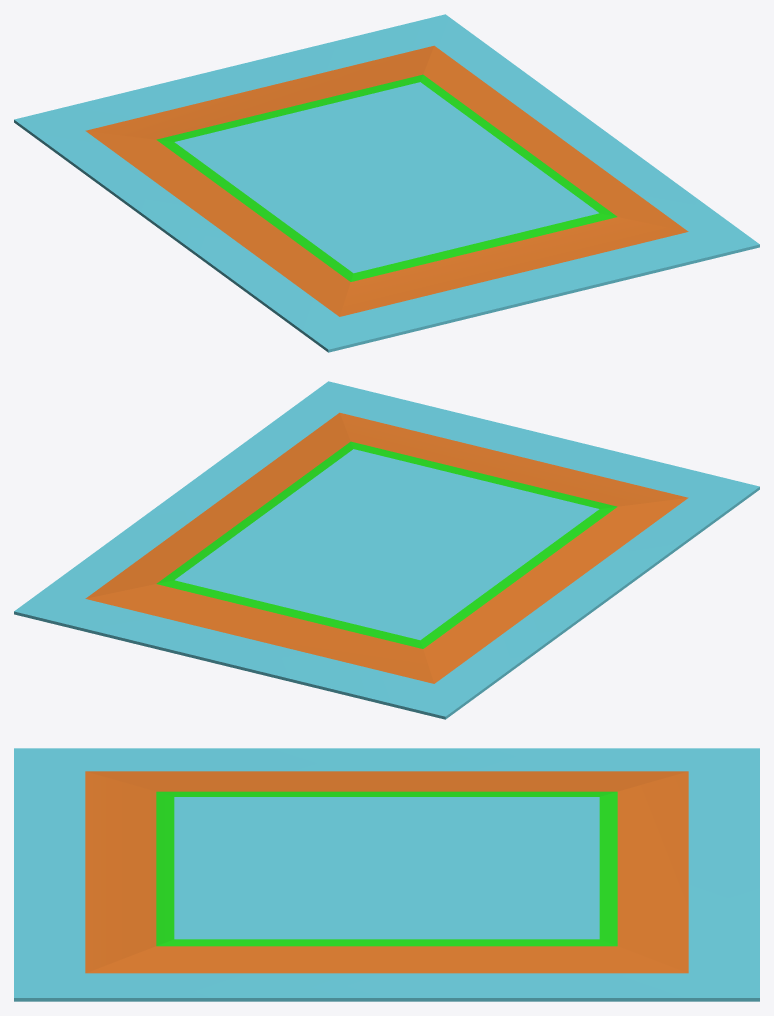
Rendered from Carpet.fbx.
3 views of the same model, one above another, from view 1: azimuth 30°, elevation 25°; view 2: azimuth 150°, elevation 25°; view 3: azimuth 270°, elevation 25° (orthographic). The views are drawn at different scales.
Visible parts, largest first — view 1: Carpet; view 2: Carpet; view 3: Carpet.
Part boxes in pixels (box(x1,y1,x2,y2)): Carpet: box(14, 14, 759, 352); Carpet: box(14, 381, 759, 719); Carpet: box(14, 748, 759, 1001).
Bounding box in the file's own units: 2.34 × 2.95 × 0.0377.
